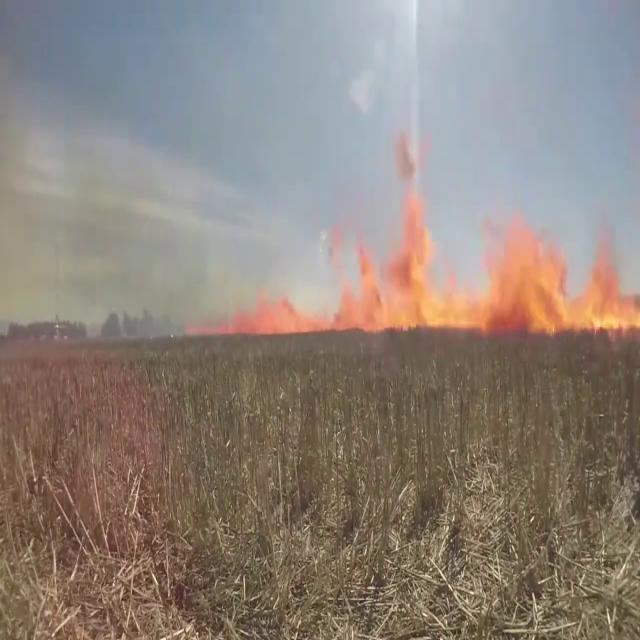Fire: (335, 166, 640, 340)
